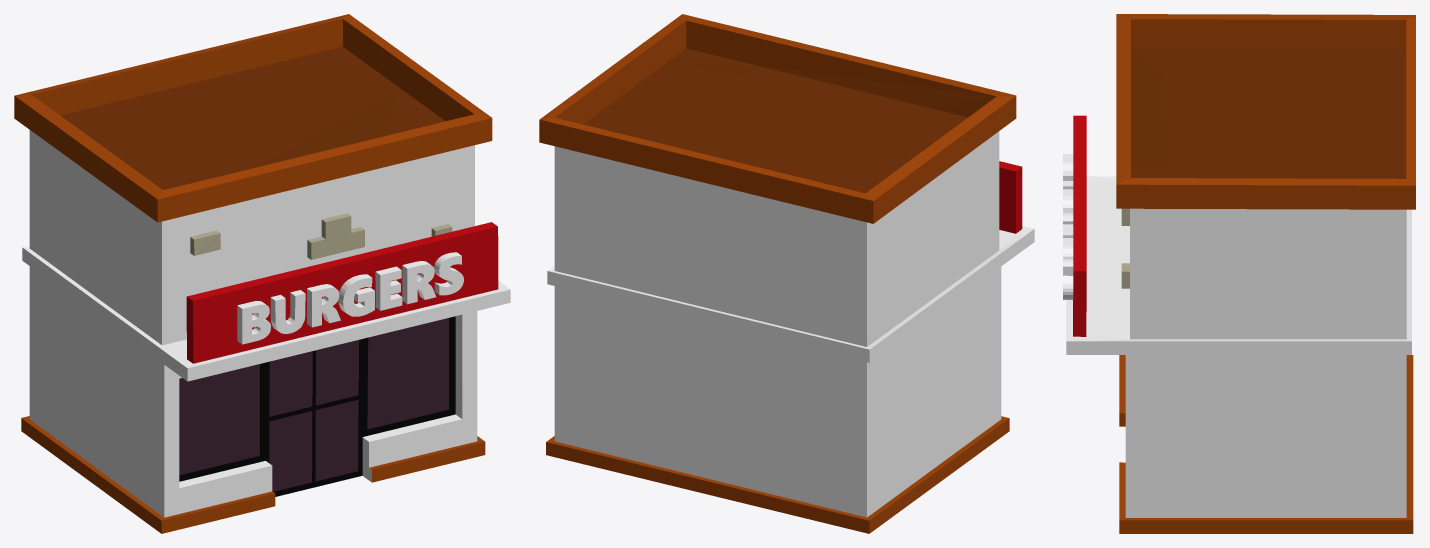
File: FBX_Fast_Food.FBX
3 renders of one model, left to right at view 1: azimuth 30°, elevation 25°; view 2: azimuth 150°, elevation 25°; view 3: azimuth 270°, elevation 25°, orthographic. The views are drawn at different scales.
Parts seen in each view (by area): view 1: Fast_Food; view 2: Fast_Food; view 3: Fast_Food.
Boxes of the visible parts, x1,y1,x2,y2 form: Fast_Food: (14, 14, 510, 533); Fast_Food: (539, 14, 1034, 533); Fast_Food: (1063, 14, 1415, 533).
Bounding box in the file's own units: 7.7 × 7.43 × 6.73.
